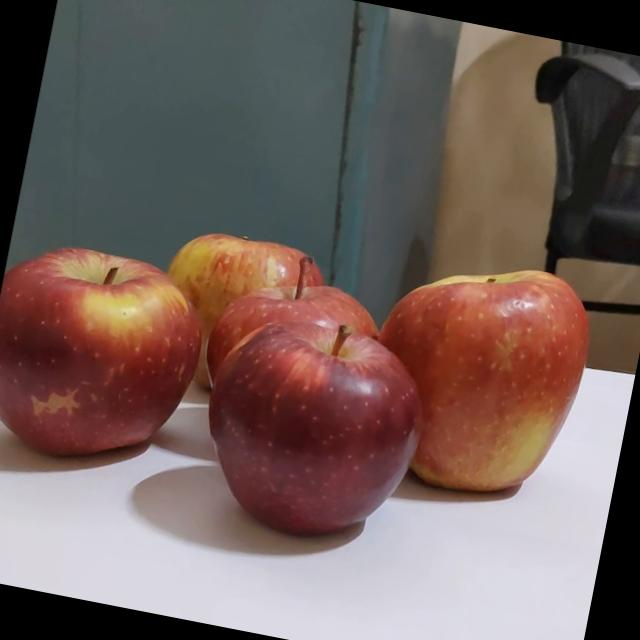apple: (353, 254, 602, 526), (213, 313, 462, 569), (0, 249, 238, 501), (198, 253, 403, 489), (136, 228, 320, 430)
